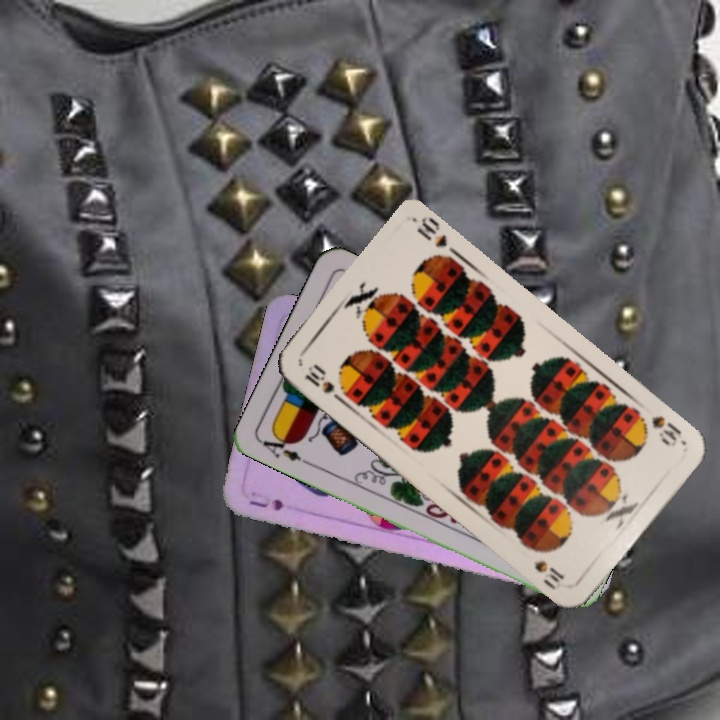EA: (256, 428, 312, 468)
S10: (301, 362, 346, 405), (647, 411, 687, 449)
SU: (246, 490, 287, 513)
